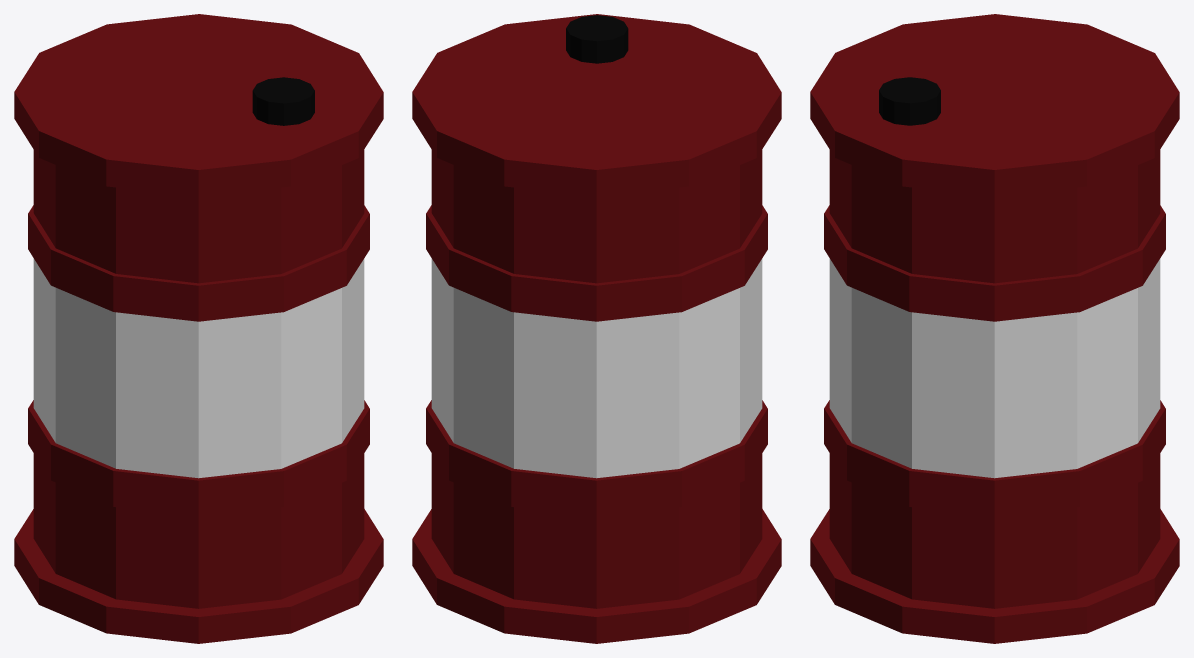
File: barrilExplosive.fbx
3 renders of one model, left to right at view 1: azimuth 30°, elevation 25°; view 2: azimuth 150°, elevation 25°; view 3: azimuth 270°, elevation 25°, orthographic.
Visible parts, largest first — view 1: Cylinder.004; view 2: Cylinder.004; view 3: Cylinder.004.
Boxes of the visible parts, box(x1,y1,x2,y2) form: Cylinder.004: box(14, 14, 383, 643); Cylinder.004: box(412, 14, 781, 643); Cylinder.004: box(810, 14, 1179, 643).
Bounding box in the file's own units: 361 × 535 × 361.
Materials: 1 (1 with a texture image).
